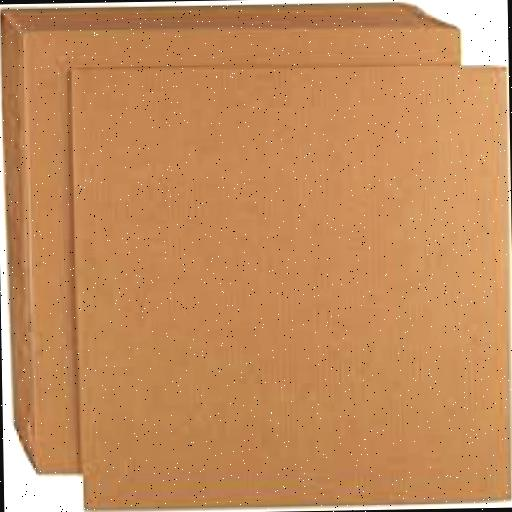cardboard: (2, 1, 473, 478), (66, 62, 512, 512)
